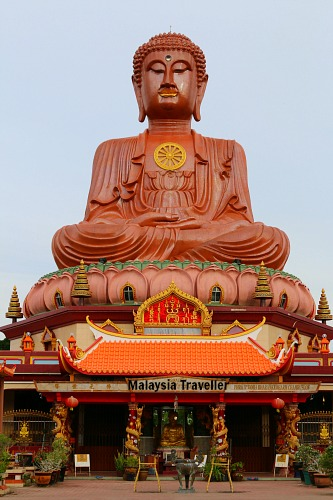Buddhist Temple: (49, 28, 288, 422)
